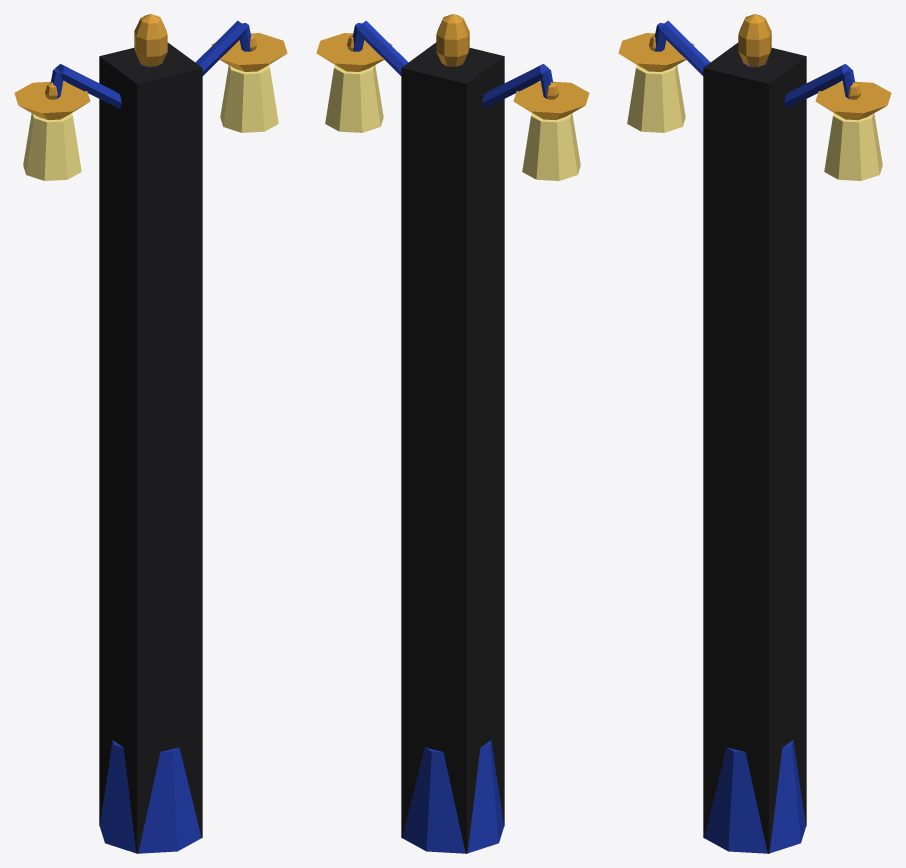
The model's file is env_bf_lamp.fbx.
The picture shows the model from 3 angles, left to right: view 1: azimuth 30°, elevation 25°; view 2: azimuth 150°, elevation 25°; view 3: azimuth 330°, elevation 25°; orthographic projection.
Parts seen in each view (by area): view 1: COL_env_bf_lamp, env_bf_lamp_geo_LOD0; view 2: COL_env_bf_lamp, env_bf_lamp_geo_LOD0; view 3: COL_env_bf_lamp, env_bf_lamp_geo_LOD0.
Part boxes in pixels (x1=…): COL_env_bf_lamp: x1=99, y1=42, x2=202, y2=853; env_bf_lamp_geo_LOD0: x1=14, y1=14, x2=287, y2=853; COL_env_bf_lamp: x1=401, y1=42, x2=504, y2=853; env_bf_lamp_geo_LOD0: x1=316, y1=14, x2=589, y2=853; COL_env_bf_lamp: x1=703, y1=42, x2=806, y2=853; env_bf_lamp_geo_LOD0: x1=618, y1=14, x2=891, y2=853.
Size of what is drawn, in the model's own units: 2.02 by 5.95 by 0.7.
